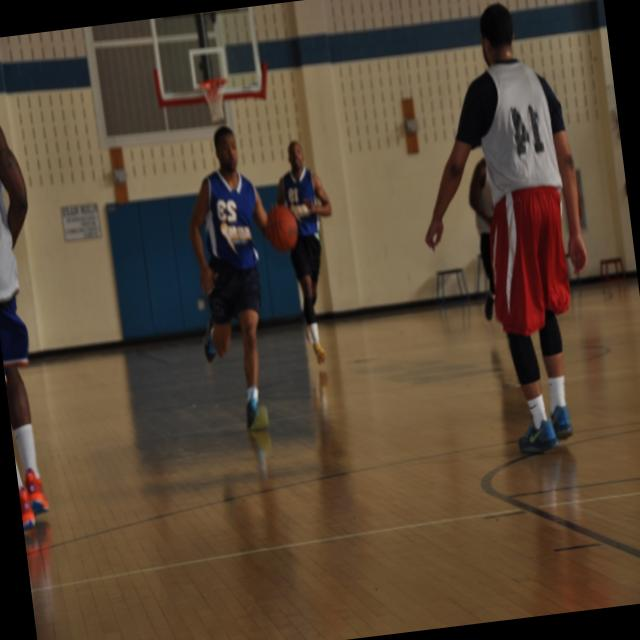Ball: (263, 203, 300, 252)
